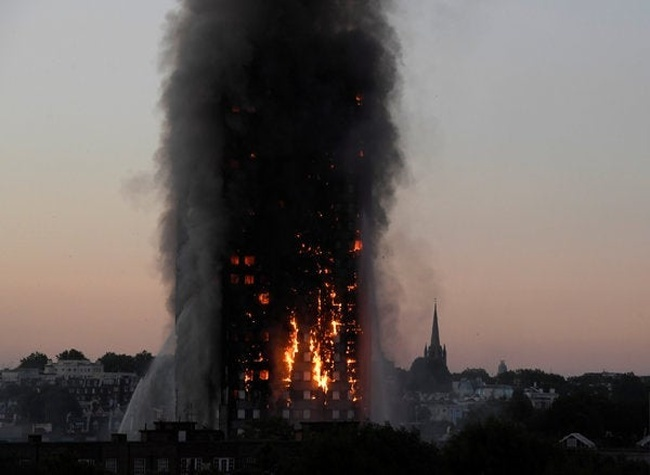Fire: (281, 324, 334, 395)
Smoke: (180, 10, 387, 119), (161, 118, 227, 421)
